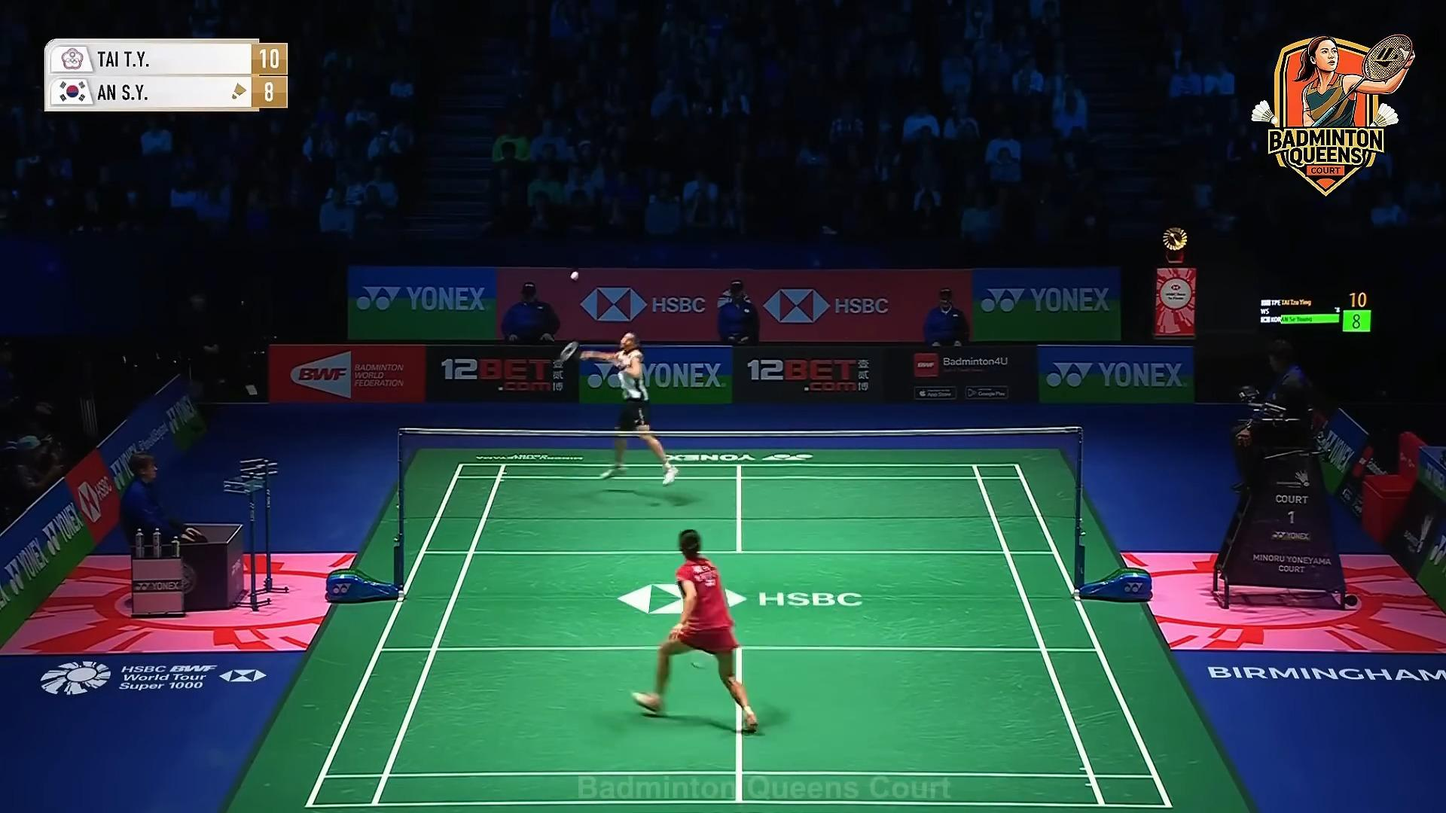player: (633, 529, 758, 732), (553, 330, 679, 486)
